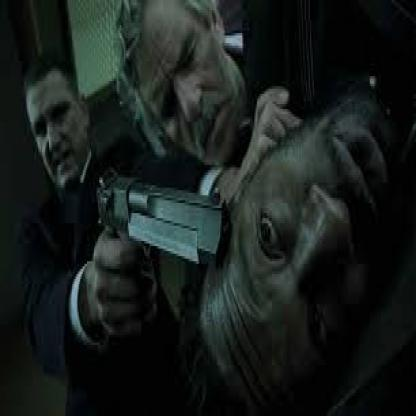Pistol: (88, 160, 230, 287)
